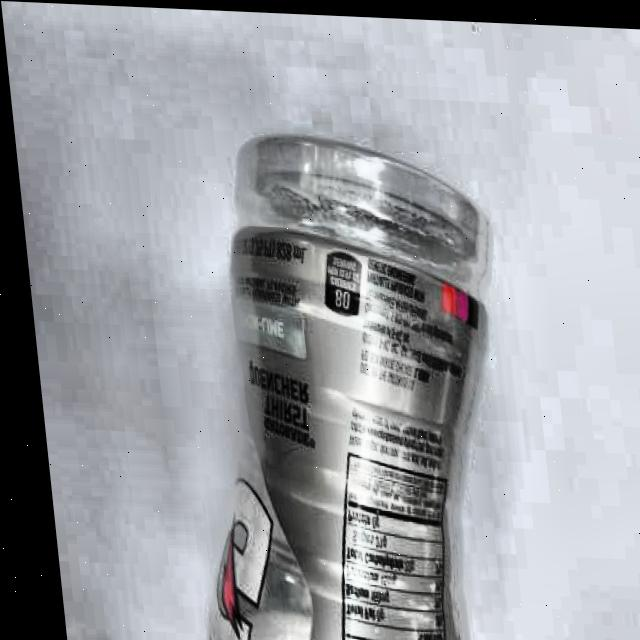plastic: (151, 125, 537, 640)
